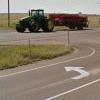Tractor: (13, 7, 95, 51)
